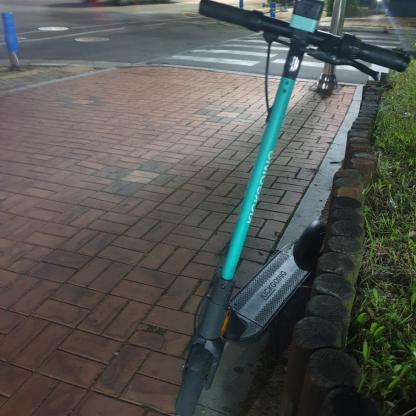kickboard: (171, 0, 412, 416)
